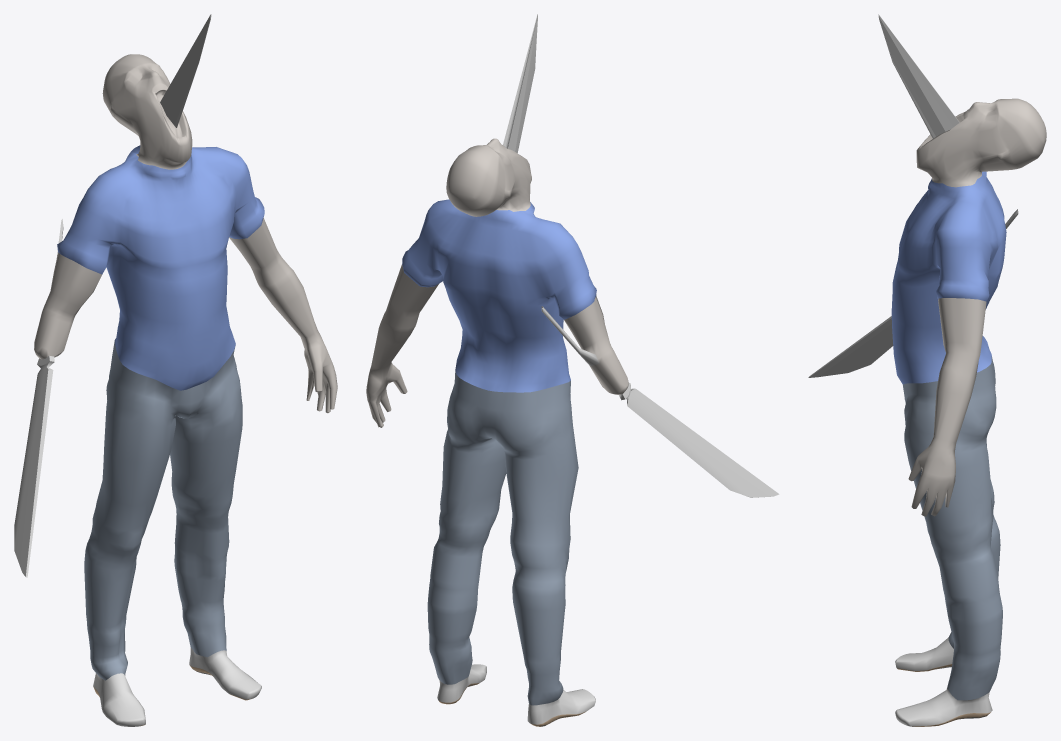
File: testMonster.fbx
The picture shows the model from 3 angles, left to right: view 1: azimuth 30°, elevation 25°; view 2: azimuth 150°, elevation 25°; view 3: azimuth 270°, elevation 25°; orthographic projection. The views are drawn at different scales.
Visible parts, largest first — view 1: Monster; view 2: Monster; view 3: Monster.
Part boxes in pixels (box(x1,y1,x2,y2)): Monster: box(14, 14, 337, 726); Monster: box(366, 14, 779, 726); Monster: box(808, 14, 1046, 726).
Bounding box in the file's own units: 114 × 207 × 65.33.
